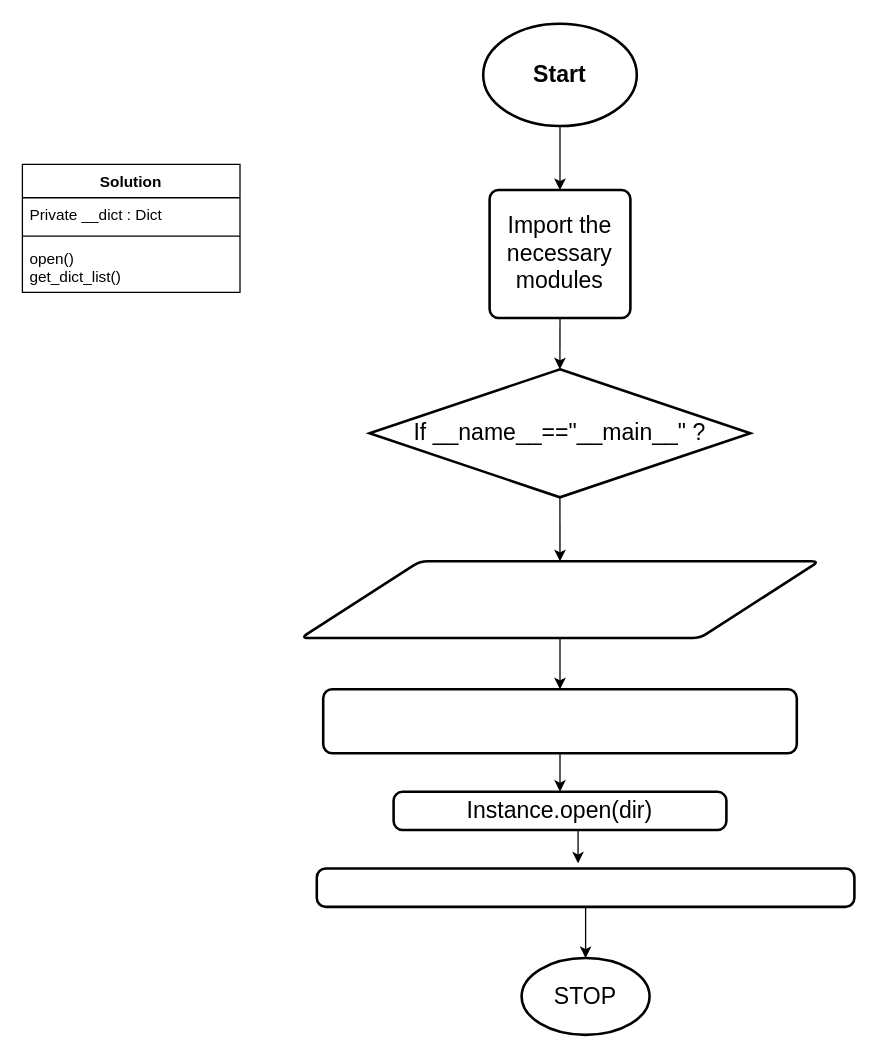
Image size: 878x1057. Some labels were removed from this diagram. Here are the shapes that lost their labels. From the top down, the centre of each, then its label:
the point at 559,599: Read the data from Command Line
the point at 559,720: Create an Instance of the class Solution
the point at 585,887: Print the output using Instance.get_dict_list()
